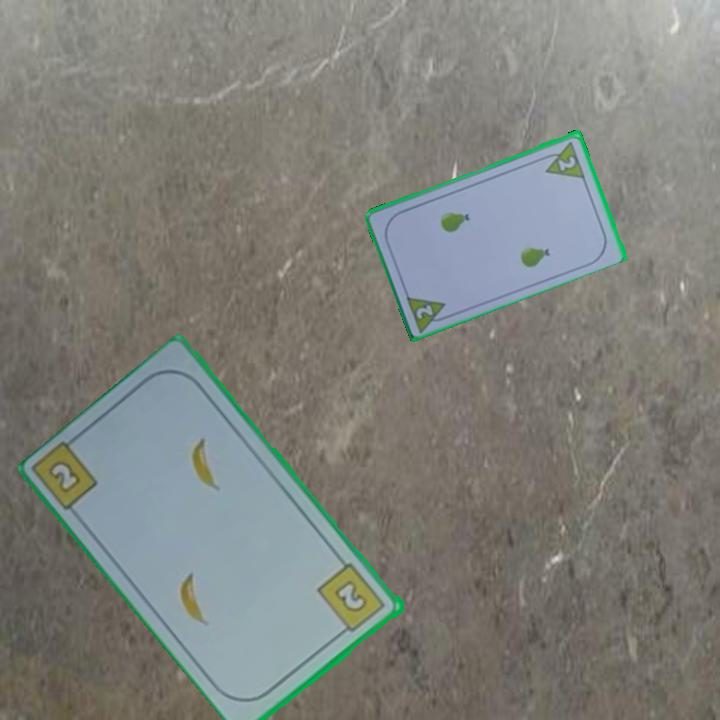2b: (314, 559, 389, 639), (31, 431, 102, 515)
2p: (402, 291, 454, 334), (538, 137, 588, 181)
